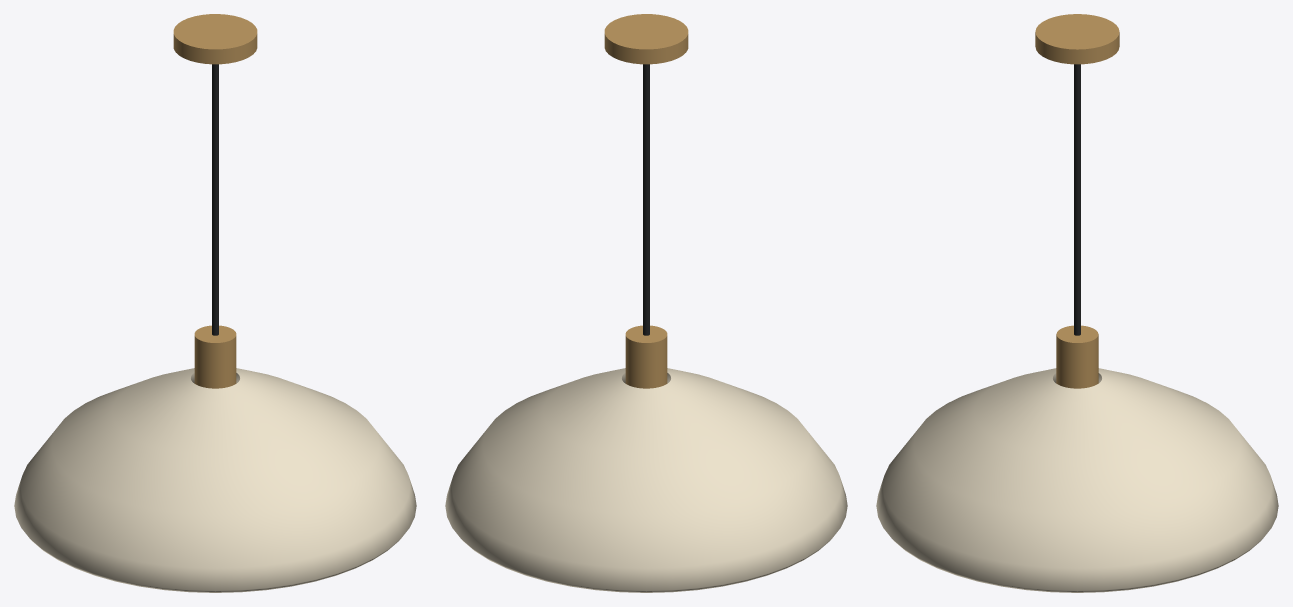
The model's file is pendant.glb.
The picture shows the model from 3 angles, left to right: view 1: azimuth 30°, elevation 25°; view 2: azimuth 150°, elevation 25°; view 3: azimuth 270°, elevation 25°; orthographic projection.
Visible parts, largest first — view 1: Glazed ivory ceramic, Satin antique brass, Charcoal fittings; view 2: Glazed ivory ceramic, Satin antique brass, Charcoal fittings; view 3: Glazed ivory ceramic, Satin antique brass, Charcoal fittings.
Part boxes in pixels (x1=…): Glazed ivory ceramic: x1=14, y1=368, x2=416, y2=592; Satin antique brass: x1=173, y1=14, x2=257, y2=388; Charcoal fittings: x1=212, y1=64, x2=218, y2=335; Glazed ivory ceramic: x1=445, y1=368, x2=847, y2=592; Satin antique brass: x1=604, y1=14, x2=688, y2=388; Charcoal fittings: x1=643, y1=64, x2=649, y2=335; Glazed ivory ceramic: x1=876, y1=368, x2=1278, y2=592; Satin antique brass: x1=1035, y1=14, x2=1119, y2=388; Charcoal fittings: x1=1074, y1=64, x2=1080, y2=335.
Size of the model in its own units: 0.44 by 0.576 by 0.44.
